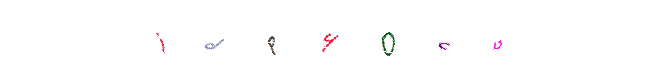0: (299, 0, 379, 80)
4: (292, 0, 372, 80)
C: (348, 0, 428, 80)
D: (254, 0, 334, 80)
J: (239, 0, 319, 80)
P: (279, 0, 359, 80)
U: (457, 0, 537, 80)
